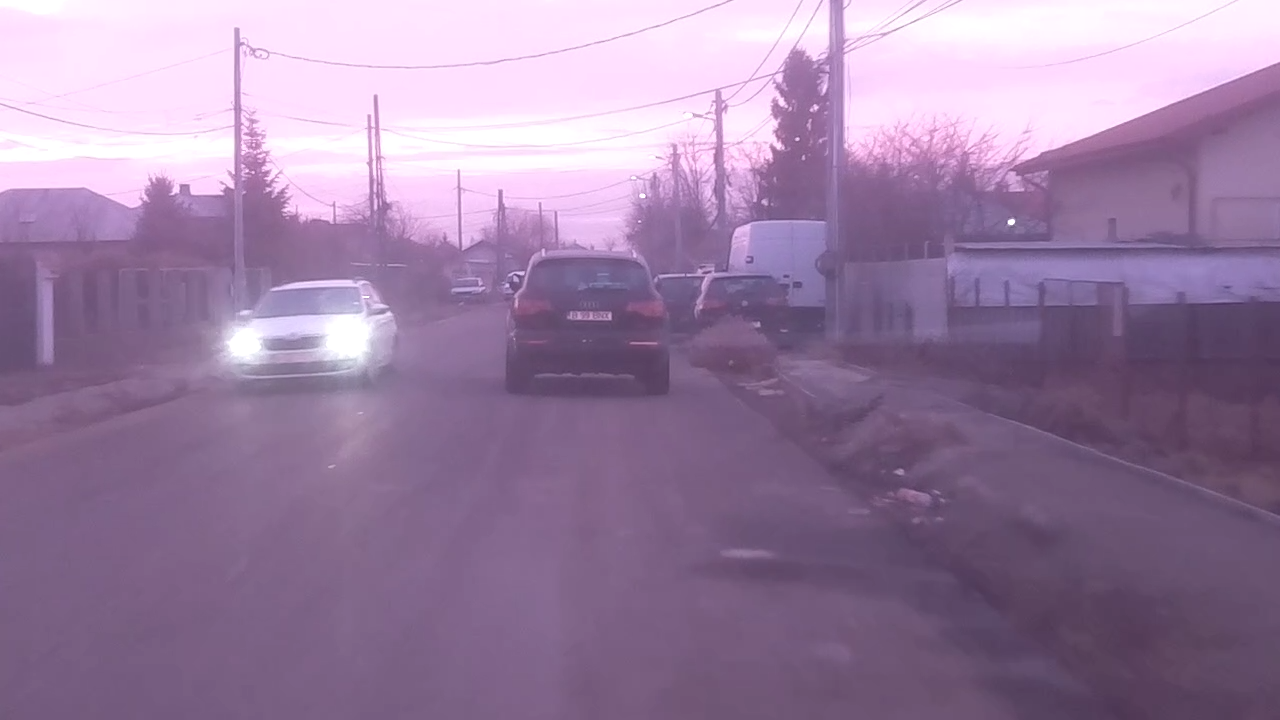license-plate: (564, 307, 614, 323)
